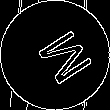M_SW: (21, 22, 89, 88)
